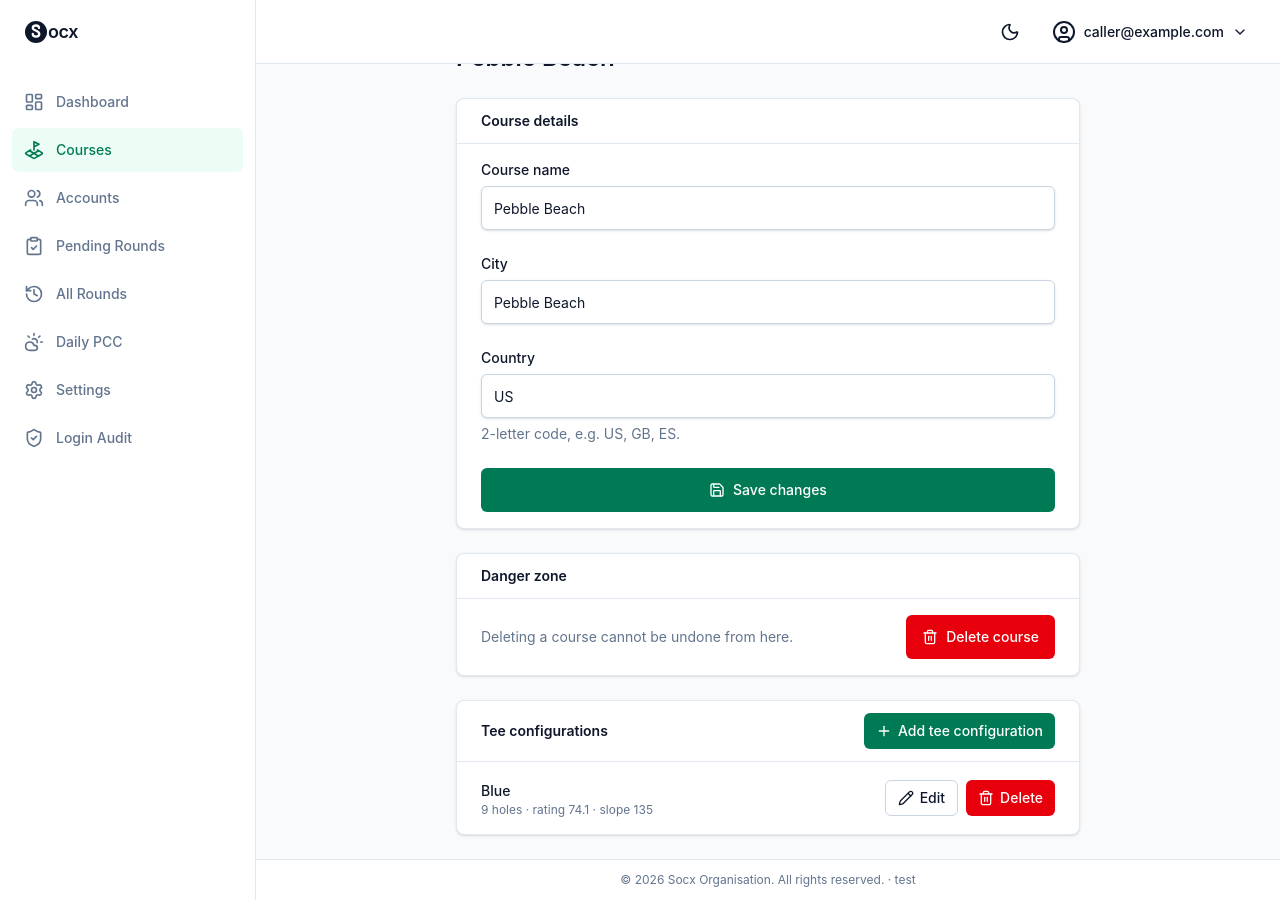
Scenario: CourseDetailPage › tee configurations › shows a clear explanation, not a raw error code, for a tee_configuration_has_rounds conflict -- modal stays open
(page scrolled)
Expected: the text "Blue" is shown, x1=481 y1=782 x2=510 y2=799
Click the button "Delete" at (1011, 798), box x1=966 y1=780 x2=1055 y2=816
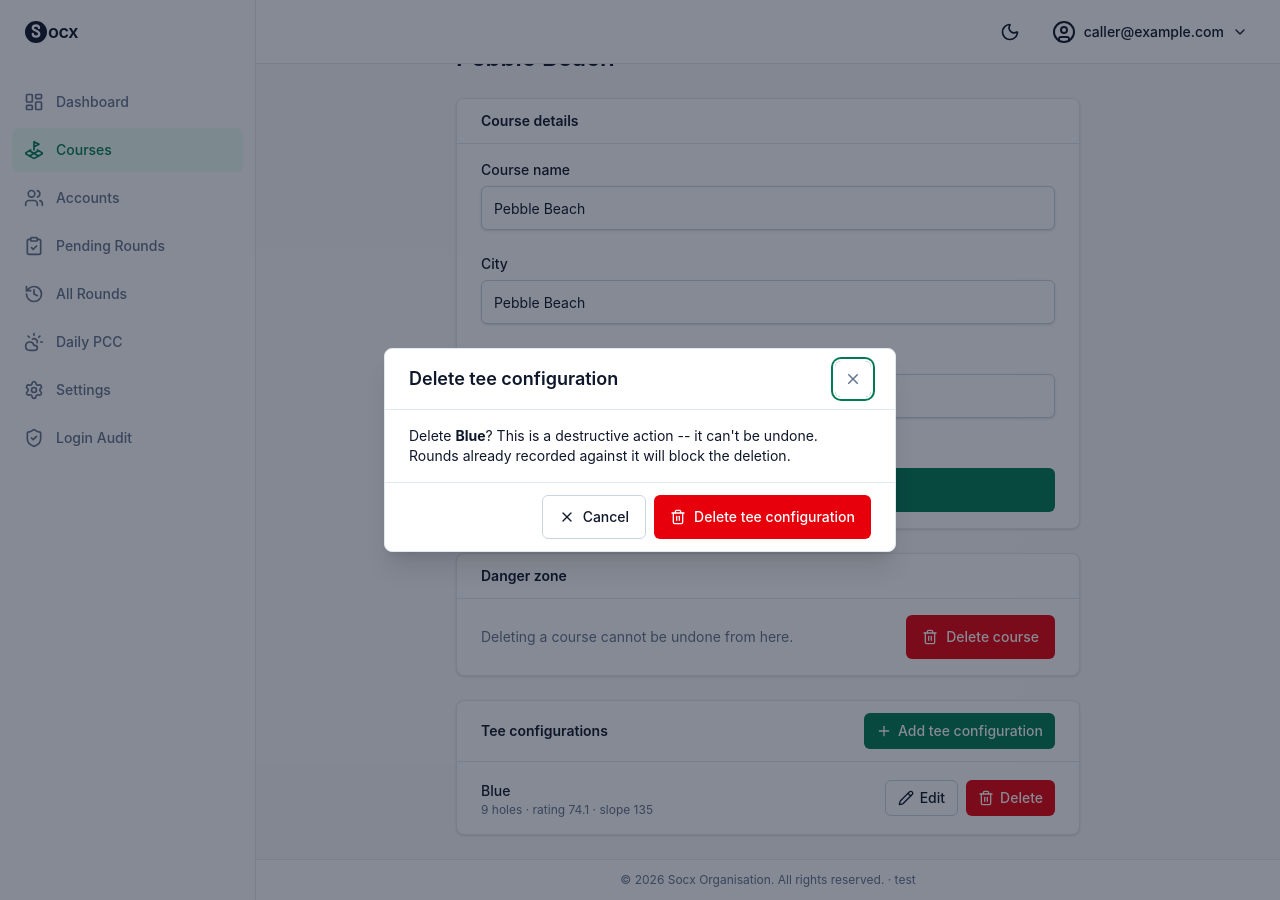
Click the button "Delete tee configuration" at (763, 517), box x1=654 y1=495 x2=871 y2=539
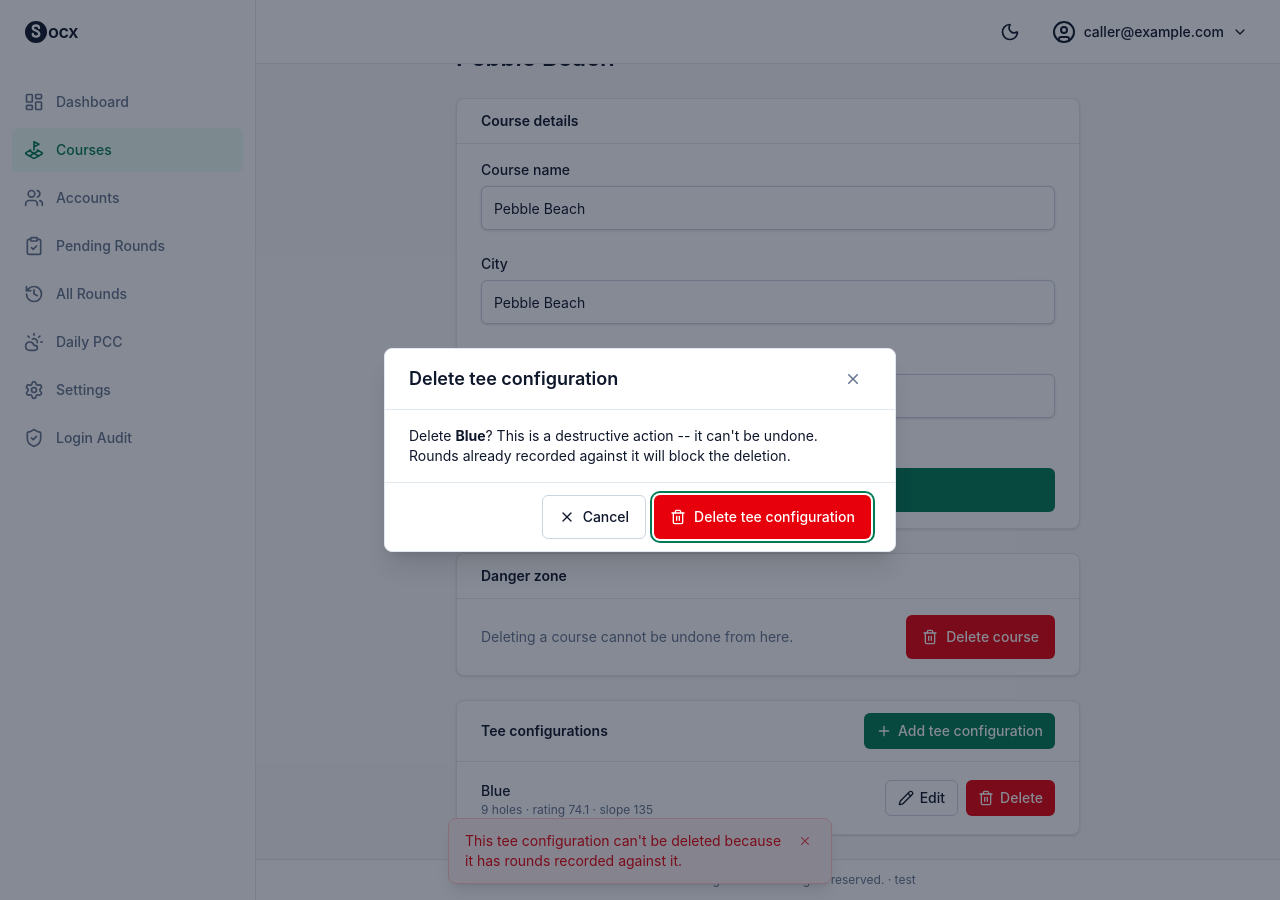
Result: the dialog "Delete tee configuration" is shown at x1=384 y1=348 x2=896 y2=552
Result: the message shows "This tee configuration can't be deleted because it has rounds recorded against it." at x1=465 y1=832 x2=781 y2=869
